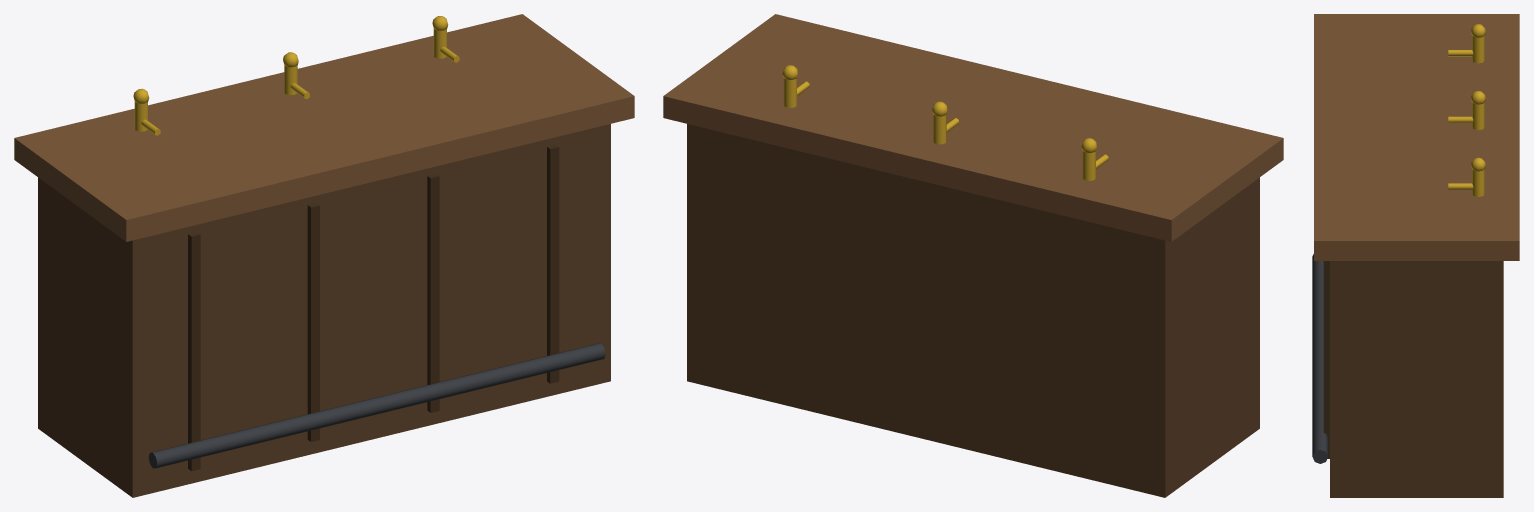
Rendered from bar-counter.glb.
3 views of the same model, side by side, from view 1: azimuth 30°, elevation 25°; view 2: azimuth 150°, elevation 25°; view 3: azimuth 270°, elevation 25° (orthographic). The views are drawn at different scales.
Size of the model in its own units: 1.7 by 1.05 by 0.655.
